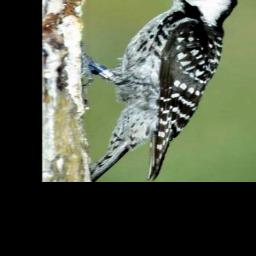Woodpecker: (80, 0, 237, 181)
